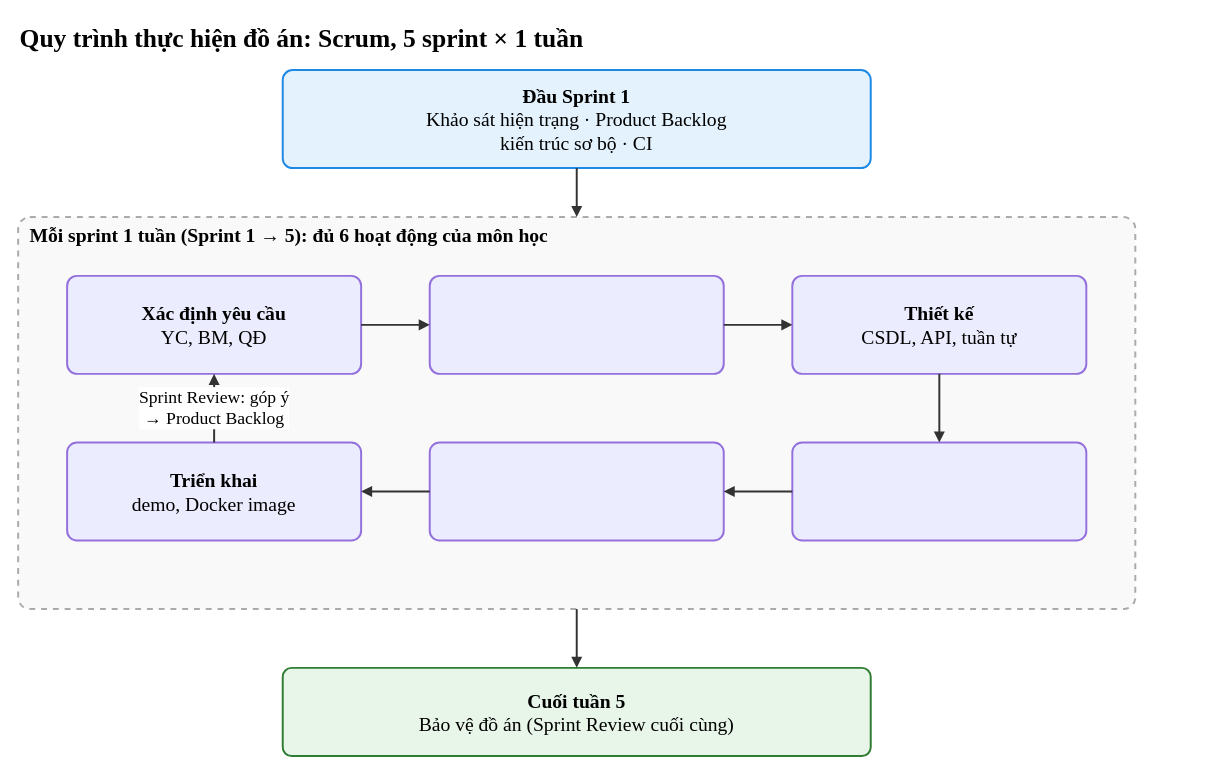
The diagram is 1210 pixels wide and 773 high, and some of its shapes have lost their labels. The centre of each missing label's shape, as x and y in pixels:
"Cài đặt code + review (PR)" goes at [939,491].
"Kiểm chứng unit, API, E2E" goes at [576,491].
"Phân tích use case, DFD" goes at [576,324].
